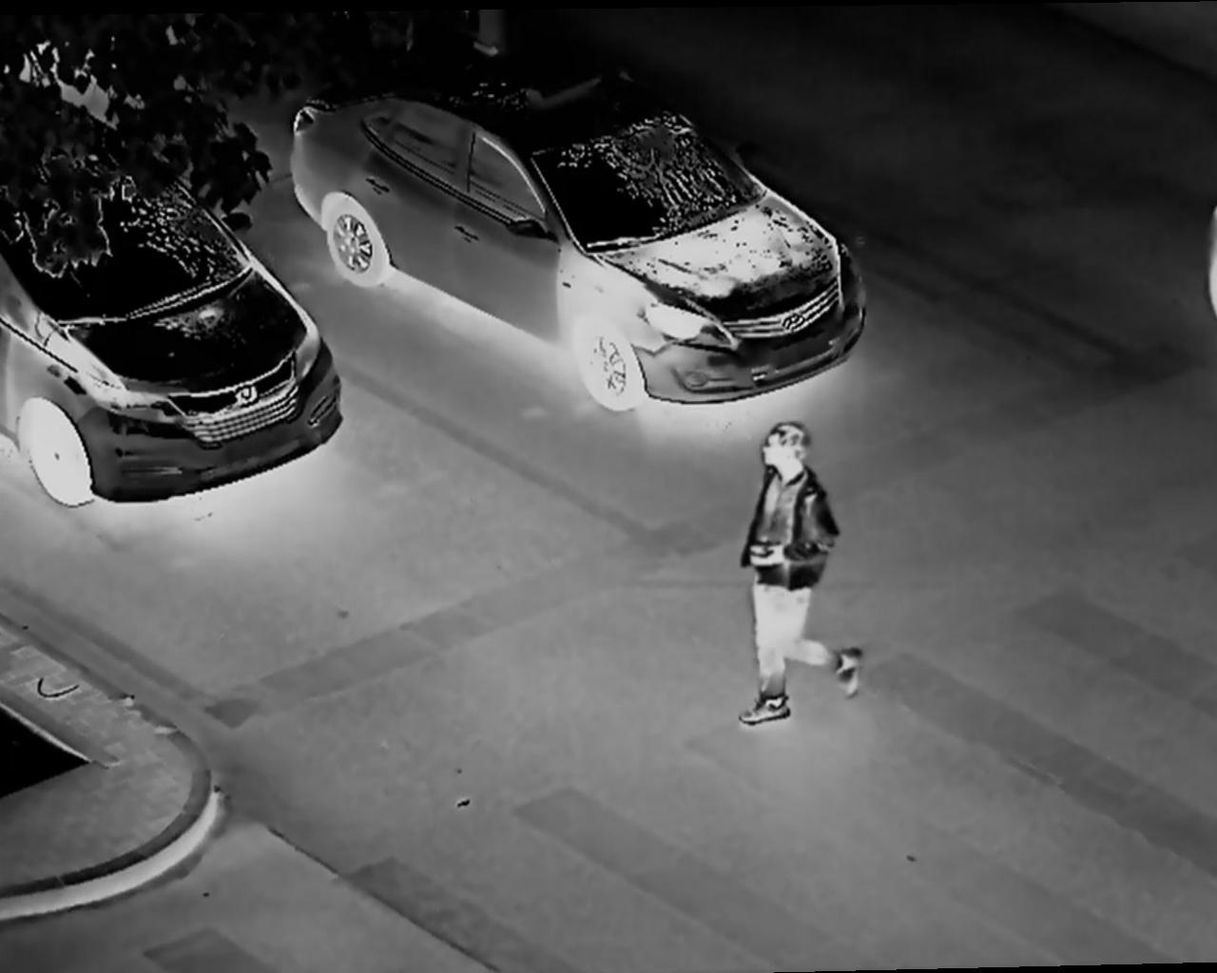person: (727, 413, 868, 755)
